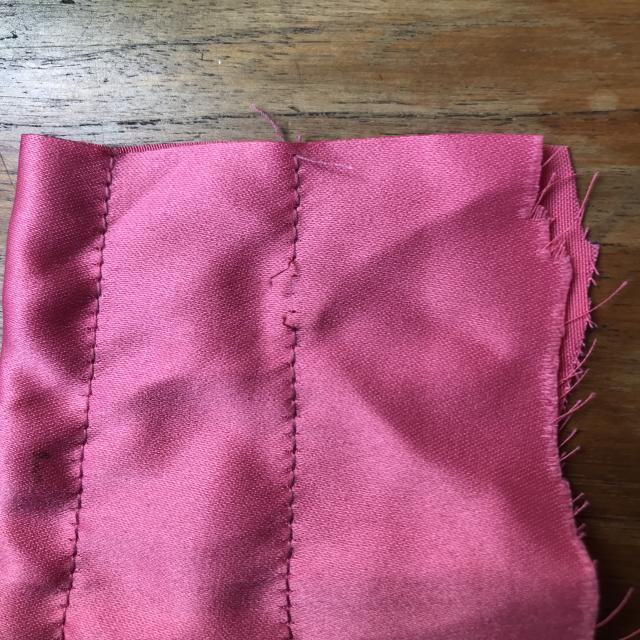broken: (258, 241, 325, 345)
